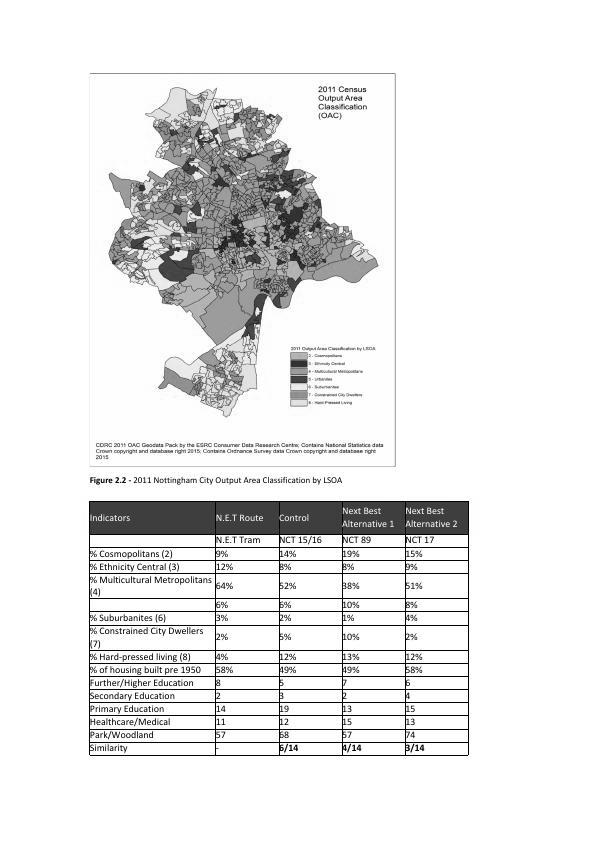table: (88, 500, 469, 756)
text: (87, 474, 343, 486)
